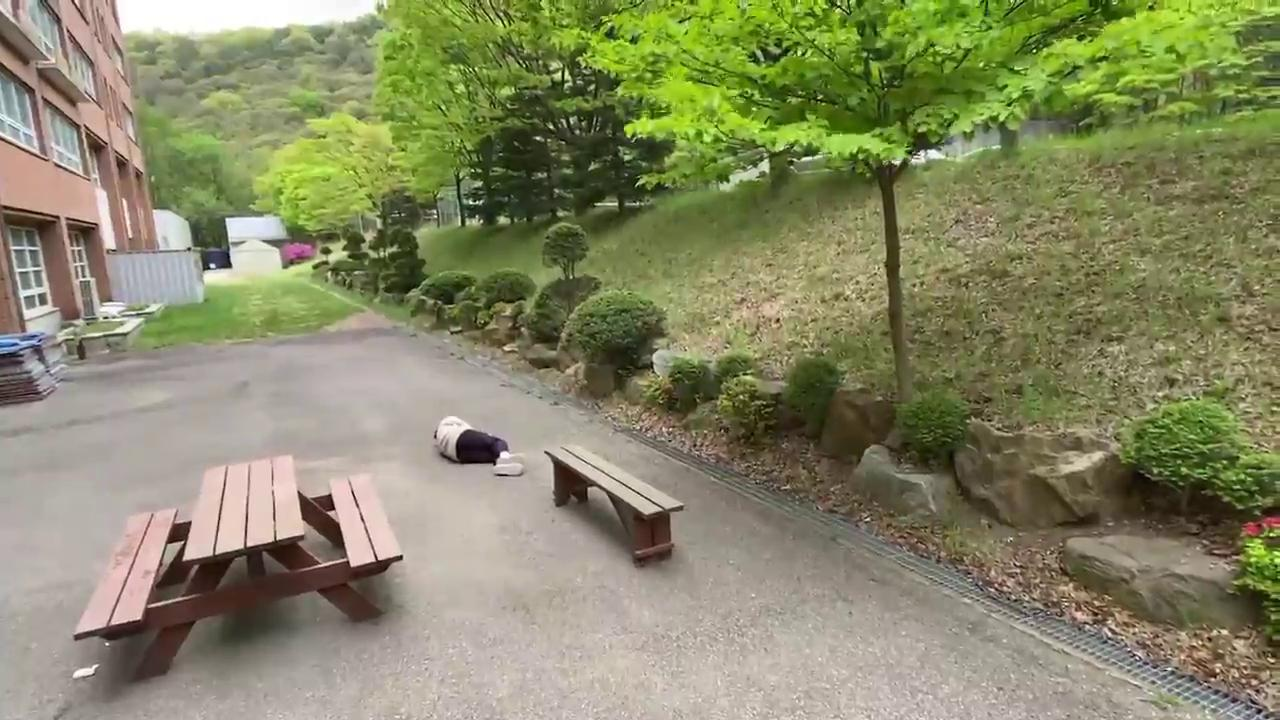faint: (427, 413, 533, 480)
